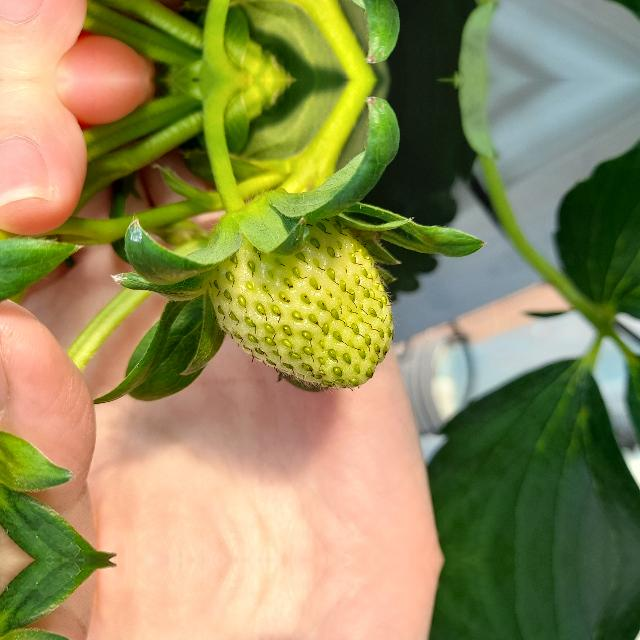Health_25: (206, 218, 394, 388)
